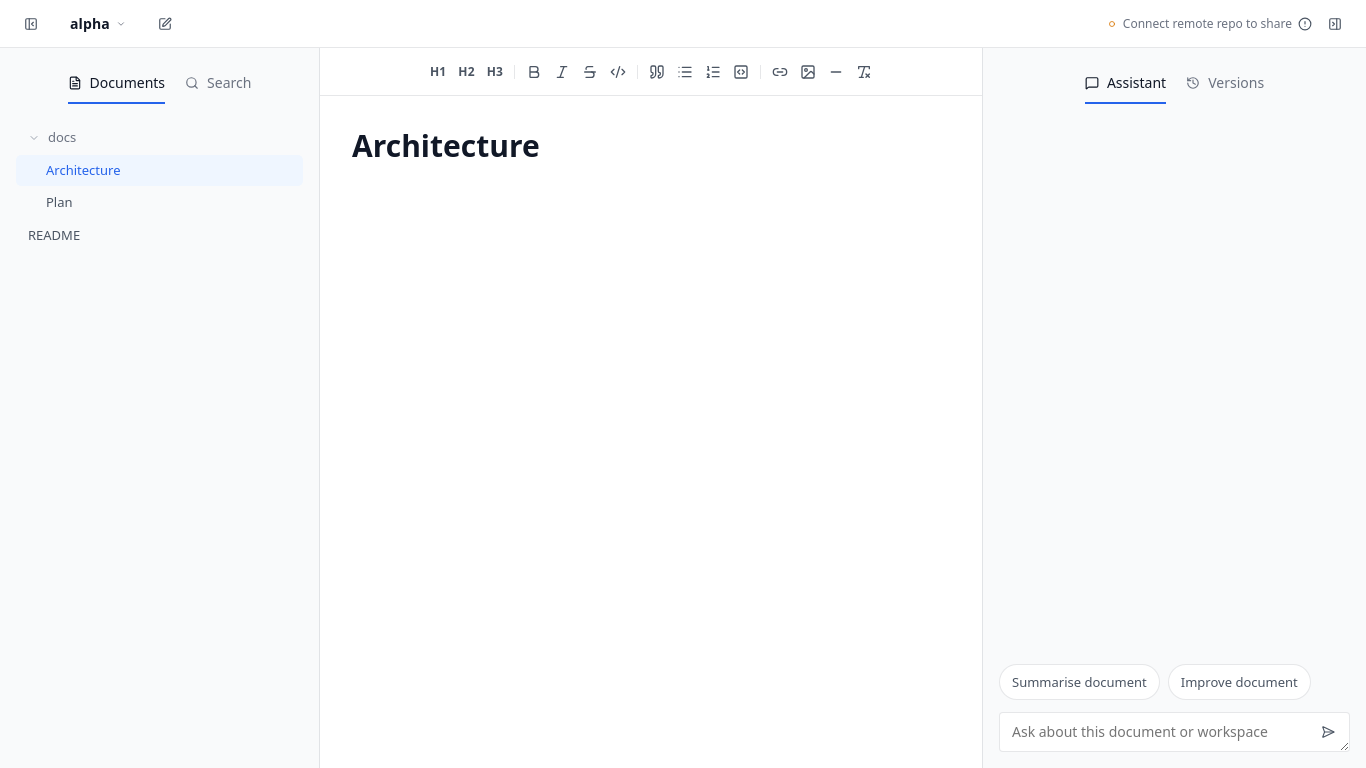
App › opens the clicked document in the single editor surface
The width and height of the screenshot is (1366, 768).
Expected: the element with test id "workspace-sidebar" is shown, [0,48,320,767]
Click the button "Architecture": (83, 170) [16,154,303,186]
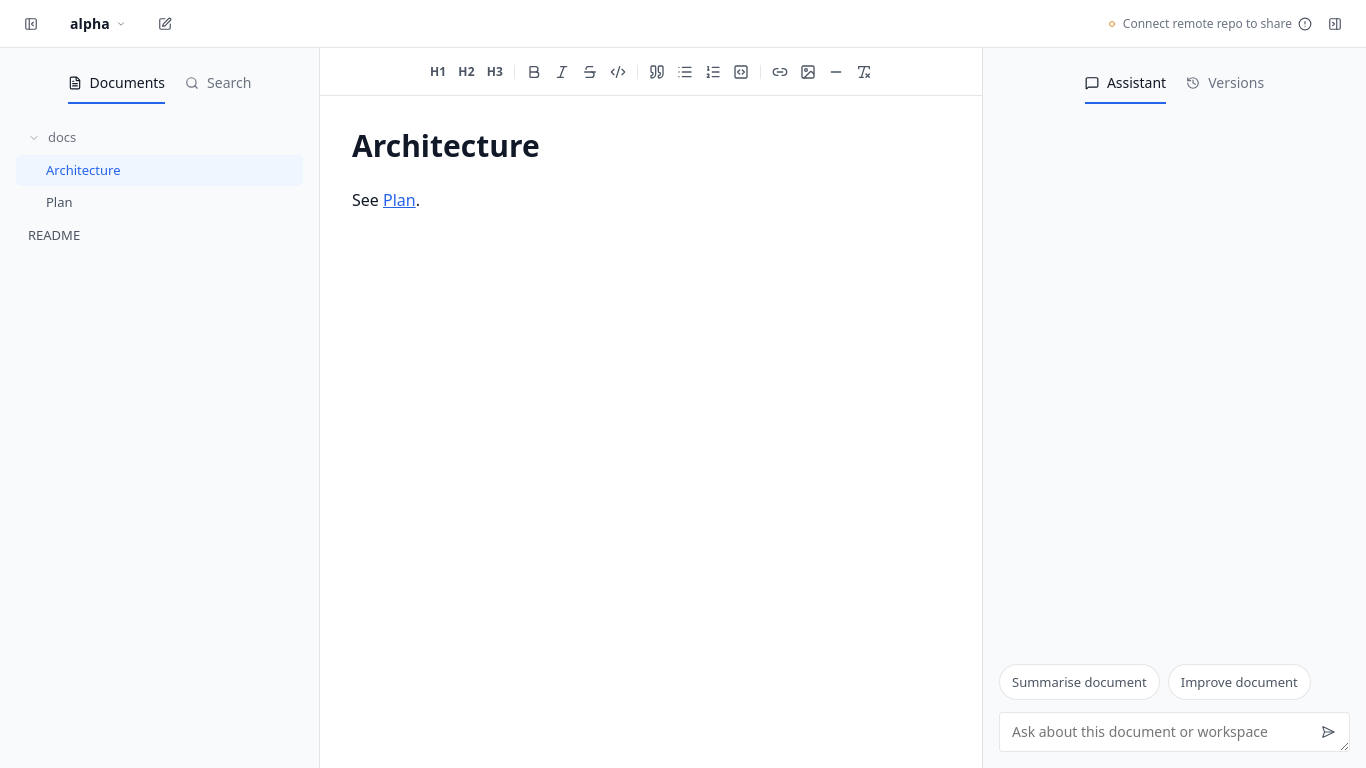
Expected: the text box showing "Architecture" is shown, [352,128,950,166]
Click the button "Plan": (59, 202) [16,187,303,219]
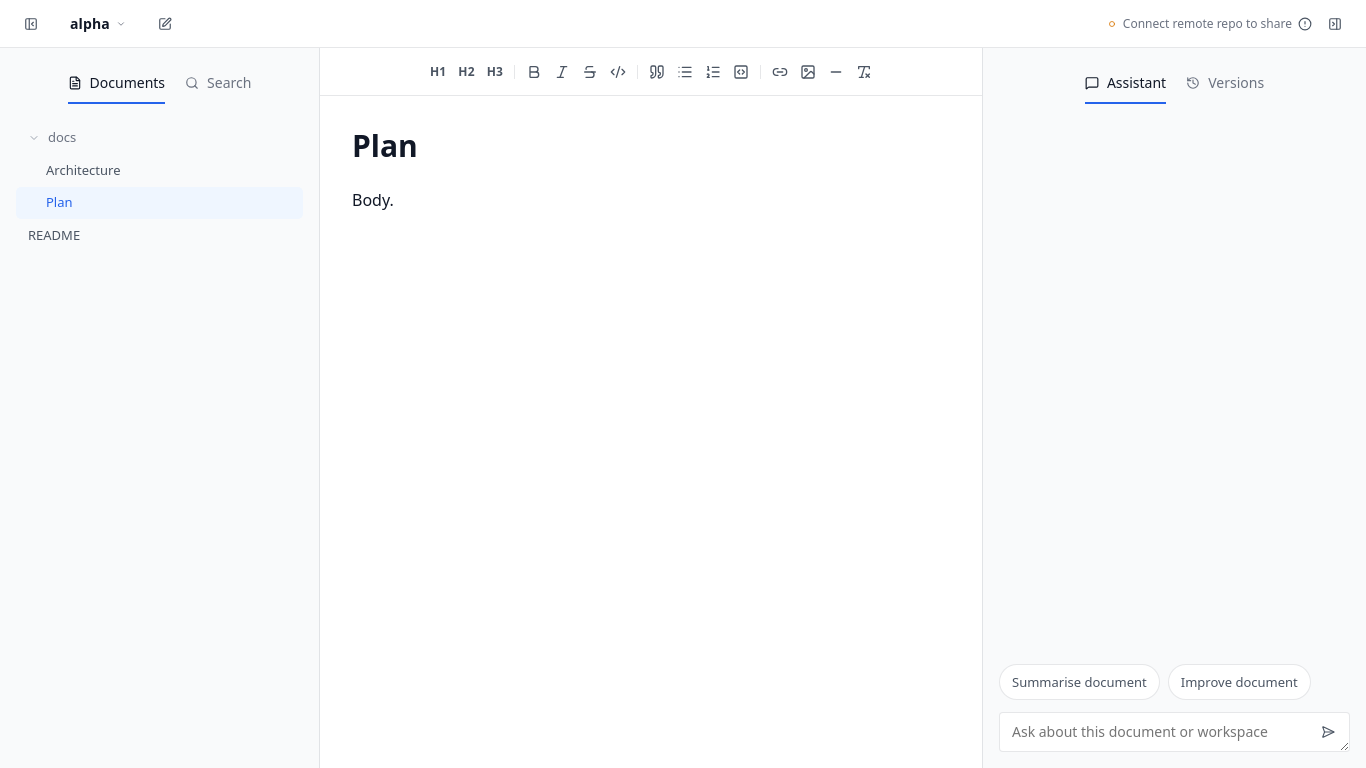
Now the text box showing "Plan" is shown, box [352,128,950,166]
